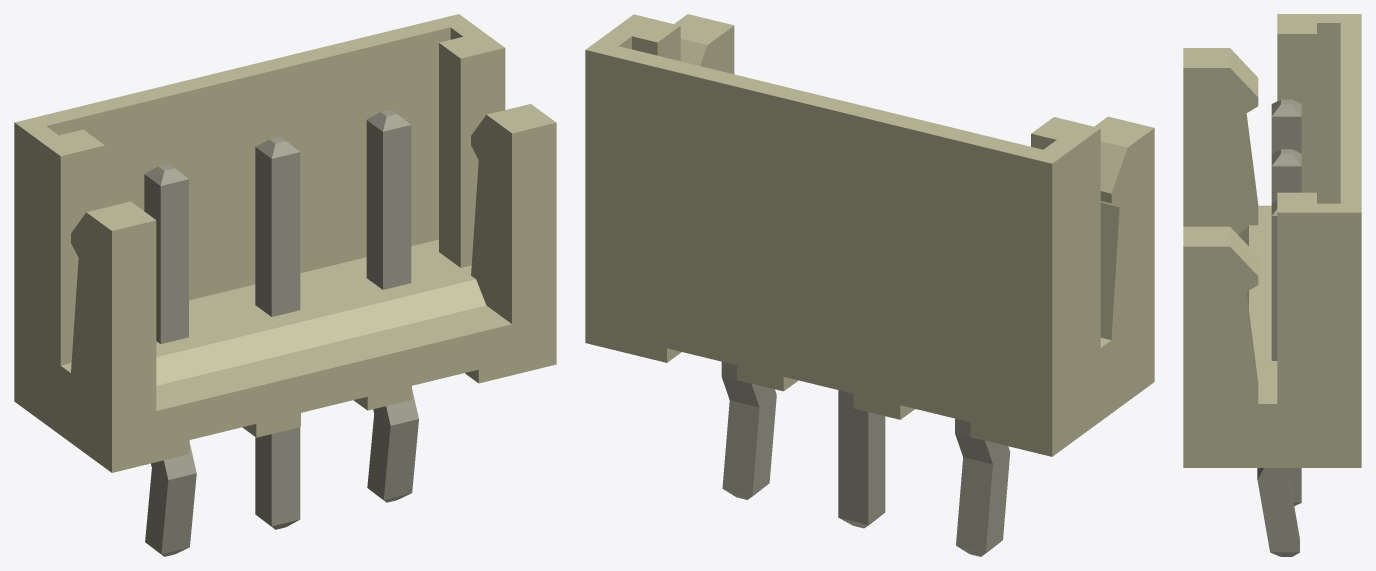
Rendered from jst-b3b-eh-a.glb.
3 views of the same model, side by side, from view 1: azimuth 30°, elevation 25°; view 2: azimuth 150°, elevation 25°; view 3: azimuth 270°, elevation 25° (orthographic). The views are drawn at different scales.
Visible parts, largest first — view 1: jst-b3b-eh-a; view 2: jst-b3b-eh-a; view 3: jst-b3b-eh-a.
Part boxes in pixels (<box>): jst-b3b-eh-a: <box>14,14,556,556</box>; jst-b3b-eh-a: <box>585,14,1154,556</box>; jst-b3b-eh-a: <box>1183,14,1361,556</box>.
Bounding box in the file's own units: 10 × 9.2 × 3.8.
